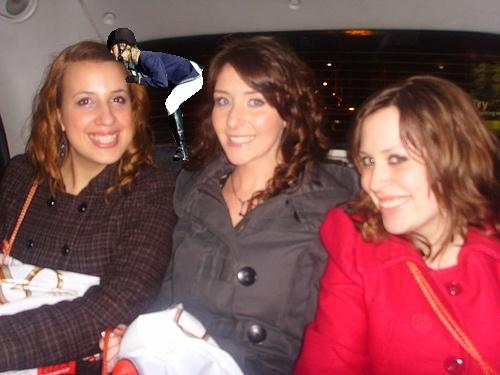tampered: (108, 29, 205, 161)
